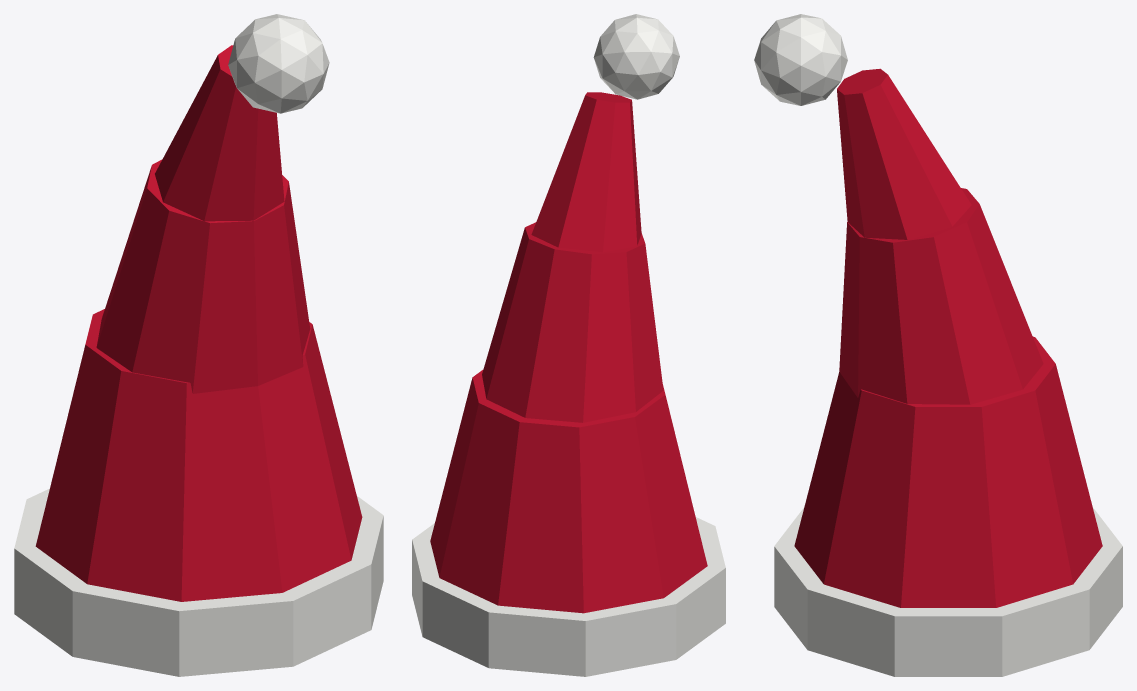
The model's file is nisse_hat.glb.
The picture shows the model from 3 angles, left to right: view 1: azimuth 30°, elevation 25°; view 2: azimuth 150°, elevation 25°; view 3: azimuth 270°, elevation 25°; orthographic projection. The views are drawn at different scales.
Parts seen in each view (by area): view 1: nisse_hat; view 2: nisse_hat; view 3: nisse_hat.
Part boxes in pixels (bbox=[...]): nisse_hat: bbox=[14, 14, 383, 676]; nisse_hat: bbox=[412, 14, 725, 676]; nisse_hat: bbox=[754, 14, 1122, 676].
Size of the model in its own units: 0.4945 by 0.97 by 0.55.
